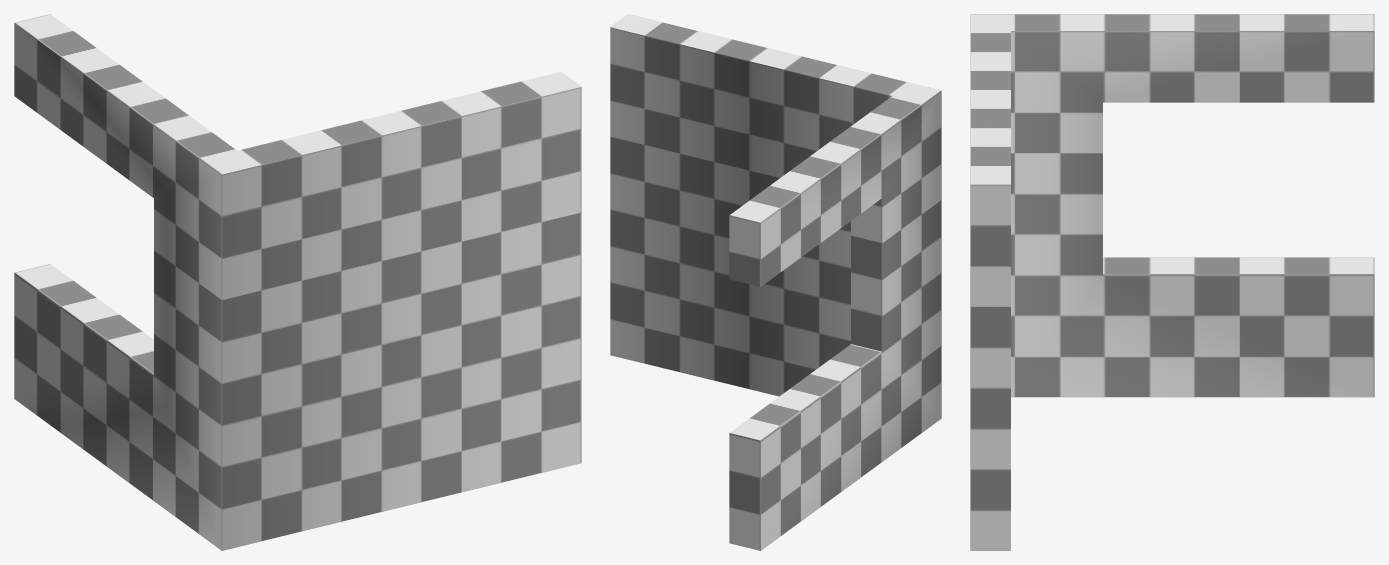
The model's file is BedroomWindow_02.fbx.
3 renders of one model, left to right at view 1: azimuth 30°, elevation 25°; view 2: azimuth 150°, elevation 25°; view 3: azimuth 270°, elevation 25°, orthographic. The views are drawn at different scales.
Parts seen in each view (by area): view 1: BedroomWindow_02; view 2: BedroomWindow_02; view 3: BedroomWindow_02.
Part boxes in pixels (x1,y1,x2,y2): BedroomWindow_02: [14, 14, 581, 550]; BedroomWindow_02: [610, 14, 941, 550]; BedroomWindow_02: [970, 14, 1374, 550].
Size of the model in its own units: 118 by 118 by 118.
1 material, 1 textured.
